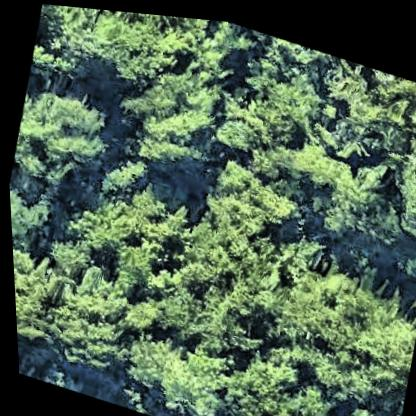tree-top: (163, 139, 319, 345), (259, 246, 416, 405), (64, 165, 196, 302), (10, 237, 138, 376), (109, 54, 228, 175), (6, 80, 113, 202), (111, 321, 240, 416), (313, 50, 409, 154), (314, 147, 401, 238), (84, 6, 178, 88), (236, 59, 322, 146), (234, 362, 356, 416), (271, 119, 346, 192), (381, 126, 416, 239), (7, 182, 63, 245)
